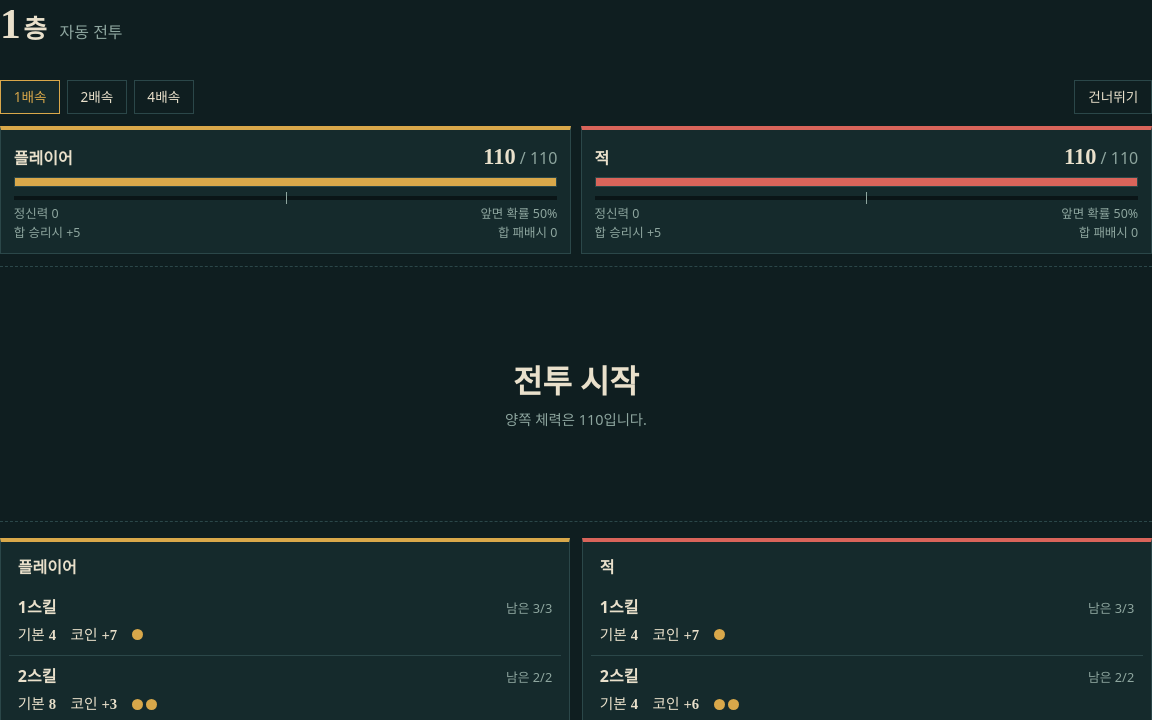
Test case: 재생 속도 › 다시 보기를 누르면 처음부터 재생한다
Click the button "건너뛰기" at x=1113, y=97, box [1074, 80, 1151, 114]
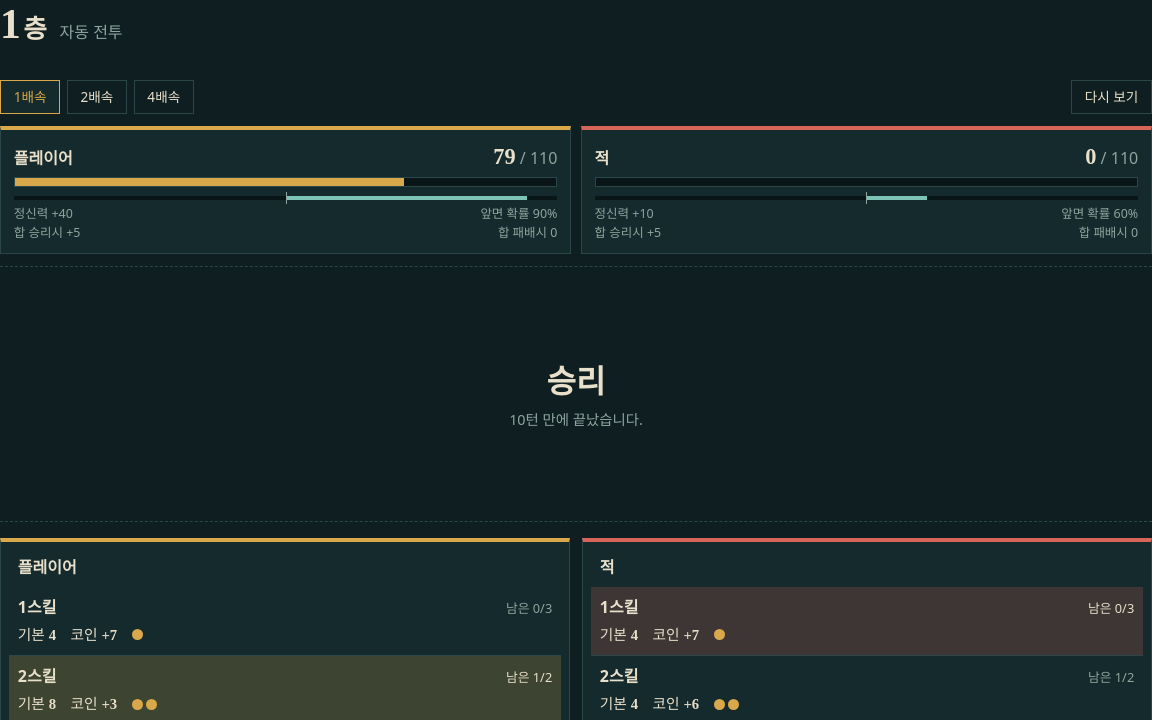
Check: the button "다시 보기" is shown
Click the button "다시 보기" at x=1111, y=97, box [1071, 80, 1151, 114]
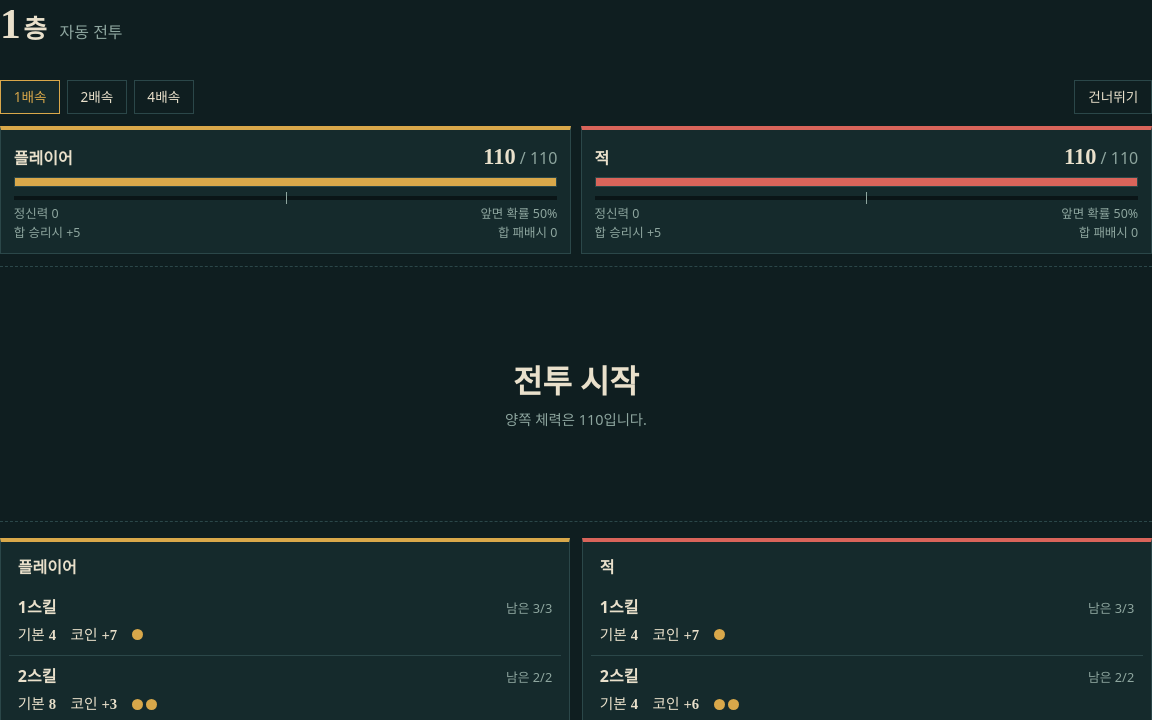
Check: the text "전투 시작" is shown, box [505, 357, 647, 408]
Check: the button "건너뛰기" is shown, box [1074, 80, 1151, 114]
